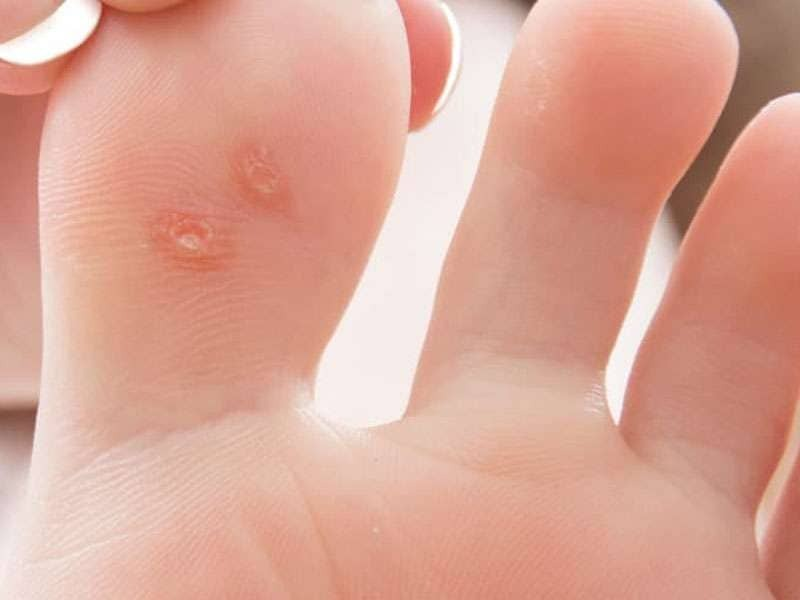Warts: (139, 117, 309, 307)
